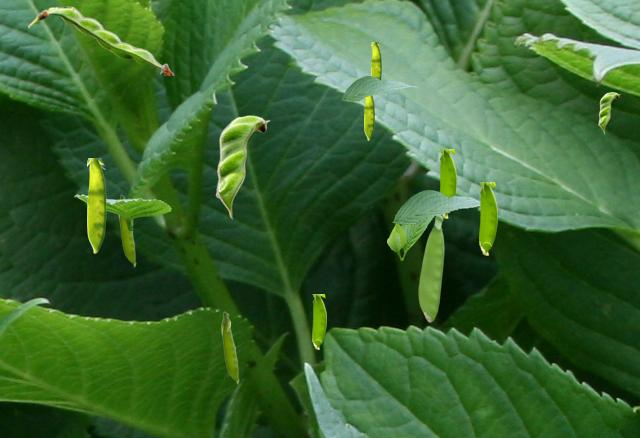pea: (28, 6, 173, 74), (215, 115, 269, 218), (418, 216, 443, 321), (87, 158, 105, 252), (221, 311, 238, 383), (479, 182, 496, 254), (118, 194, 135, 266), (439, 149, 455, 217), (598, 92, 619, 133), (312, 294, 325, 348), (364, 96, 373, 139), (371, 42, 380, 78)
